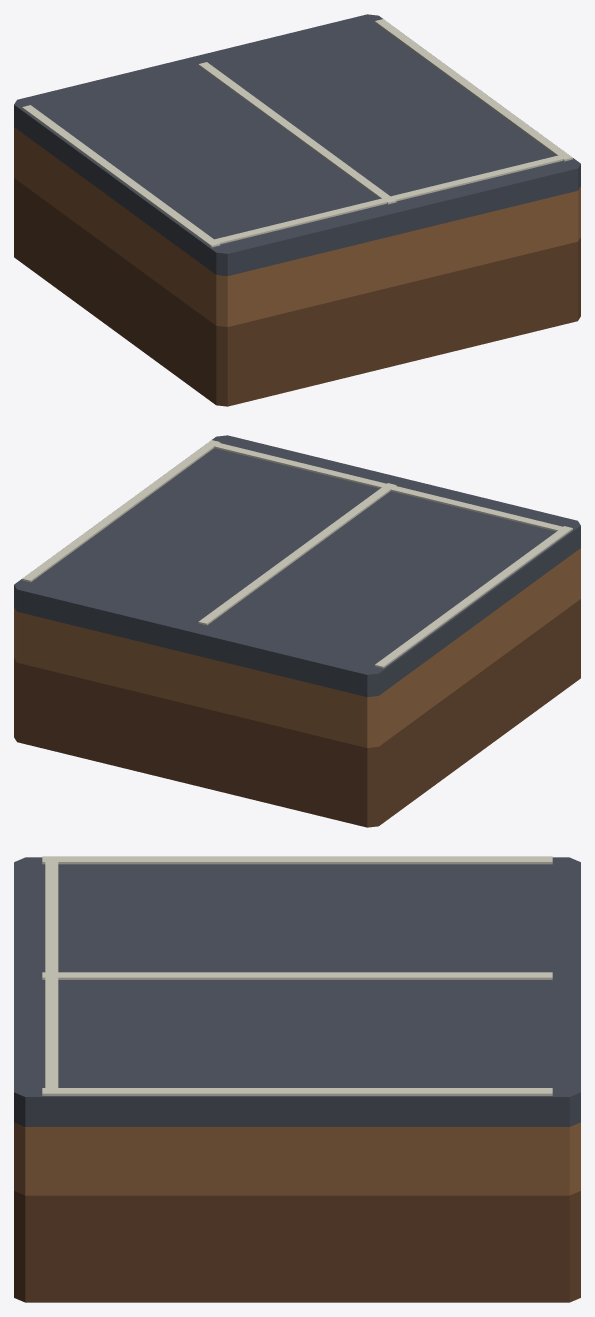
File: ground_parking.glb
3 views of the same model, one above another, from view 1: azimuth 30°, elevation 25°; view 2: azimuth 150°, elevation 25°; view 3: azimuth 270°, elevation 25° (orthographic). The views are drawn at different scales.
Visible parts, largest first — view 1: ground_parking; view 2: ground_parking; view 3: ground_parking.
Part boxes in pixels (x1,y1,x2,y2): ground_parking: [14, 14, 580, 406]; ground_parking: [14, 435, 580, 827]; ground_parking: [14, 856, 580, 1302].
Bounding box in the file's own units: 6 × 2.43 × 6.
